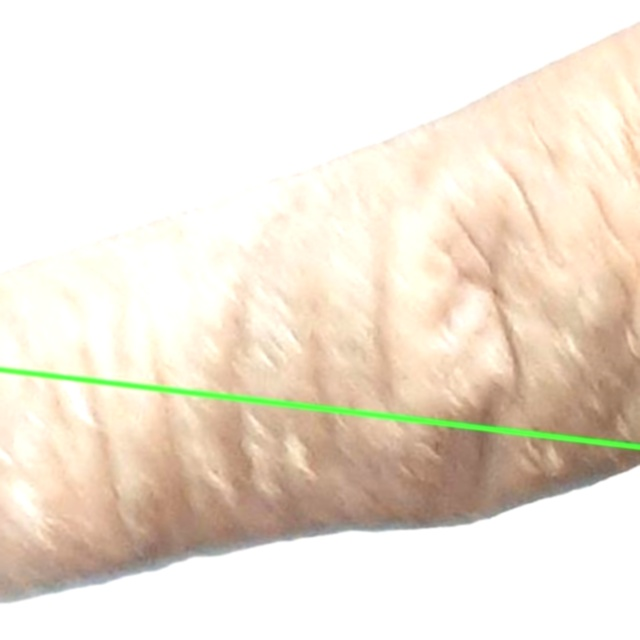Eczema: (0, 369, 639, 639)
